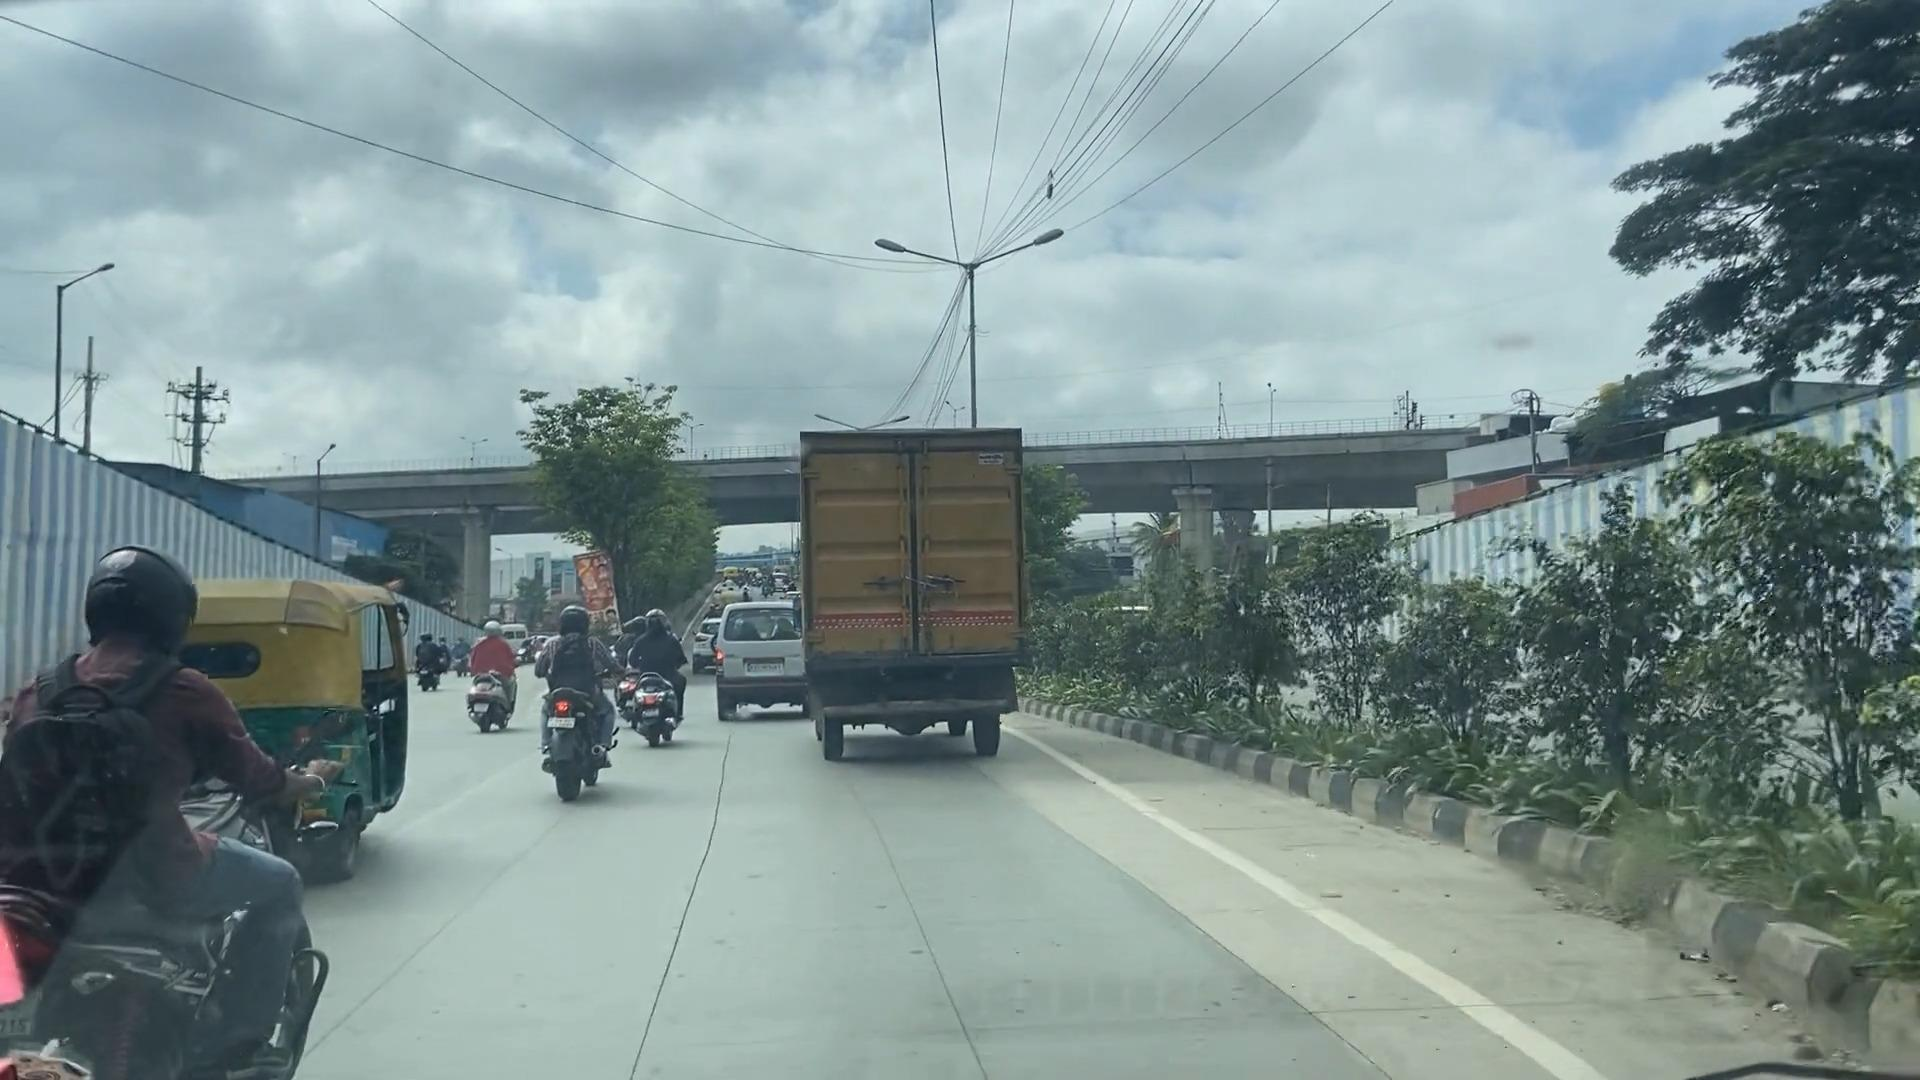HMV: (773, 413, 1029, 760)
LMV: (541, 600, 605, 778), (629, 600, 687, 765)
